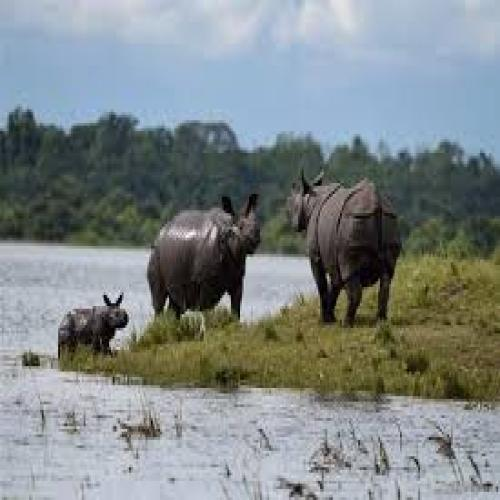rhino-endangered: (285, 166, 400, 324), (148, 196, 257, 320), (58, 290, 128, 356)
